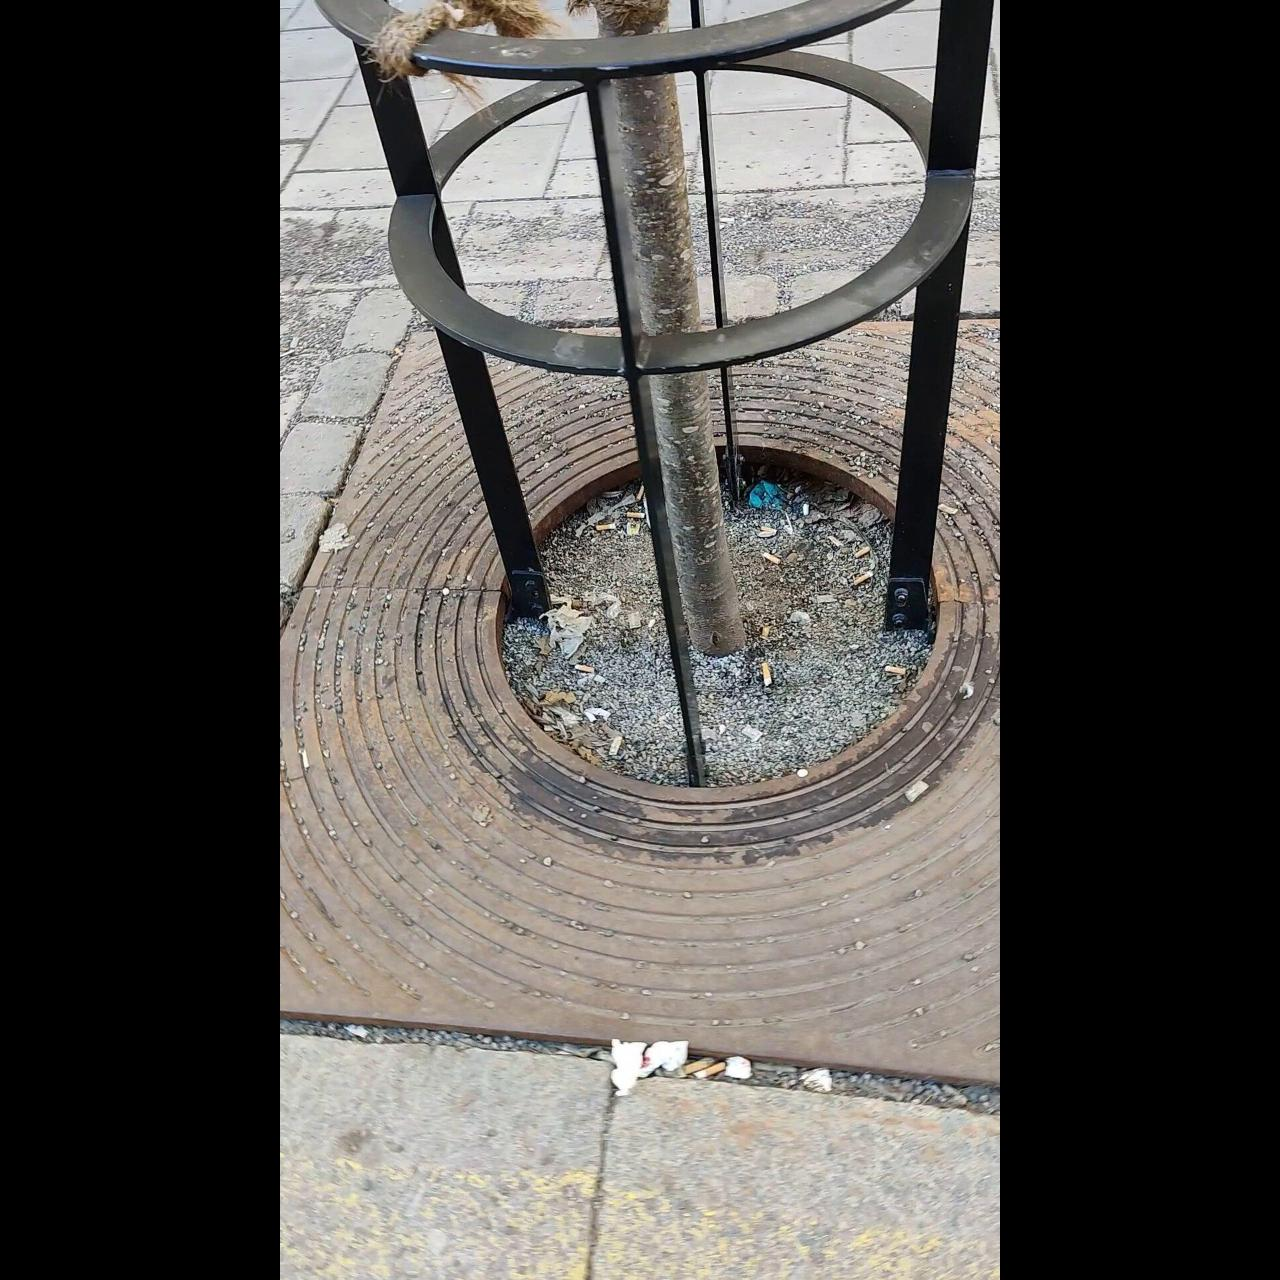cigarettes_butts: (693, 1064, 726, 1082), (760, 660, 774, 686), (610, 735, 622, 761), (885, 662, 907, 676), (685, 1061, 708, 1074), (853, 572, 873, 586), (626, 509, 648, 519), (595, 524, 617, 533), (763, 552, 779, 564), (764, 622, 772, 641), (763, 524, 777, 535), (856, 549, 869, 559), (636, 488, 645, 503)
others: (906, 781, 928, 805), (741, 723, 763, 741), (576, 662, 595, 674), (937, 504, 958, 515), (629, 613, 639, 631)
